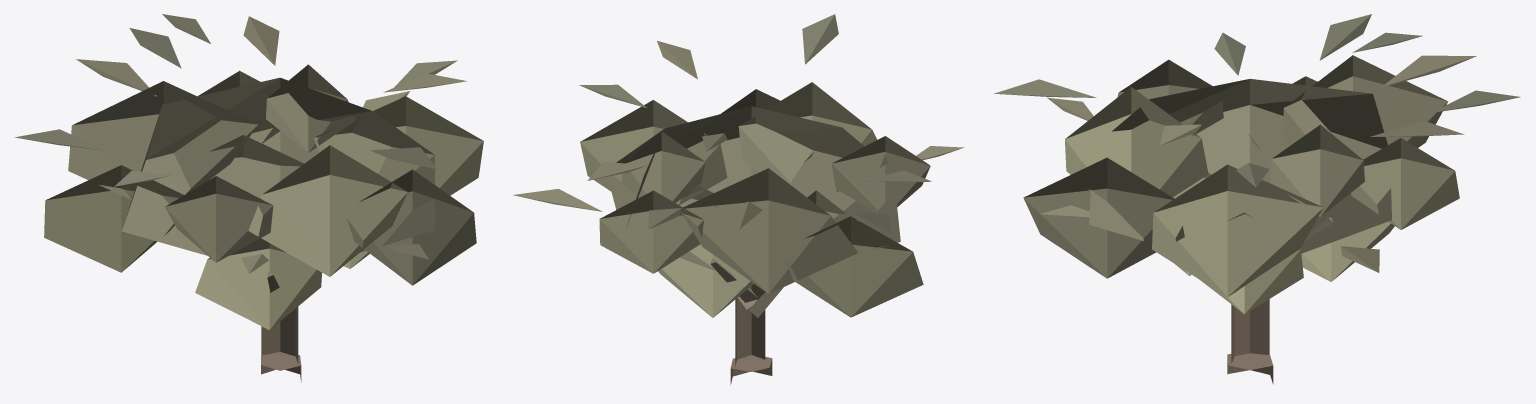
Rendered from nong.sang@subadult__winter.glb.
3 views of the same model, side by side, from view 1: azimuth 30°, elevation 25°; view 2: azimuth 150°, elevation 25°; view 3: azimuth 270°, elevation 25° (orthographic). The views are drawn at different scales.
Parts seen in each view (by area): view 1: nong.sang@subadult__winter; view 2: nong.sang@subadult__winter; view 3: nong.sang@subadult__winter.
Part boxes in pixels (left/top/right/bottom): nong.sang@subadult__winter: left=15, top=14, right=483, bottom=382; nong.sang@subadult__winter: left=513, top=14, right=963, bottom=384; nong.sang@subadult__winter: left=994, top=14, right=1520, bottom=384.
Bounding box in the file's own units: 4.67 × 3.48 × 5.1.
